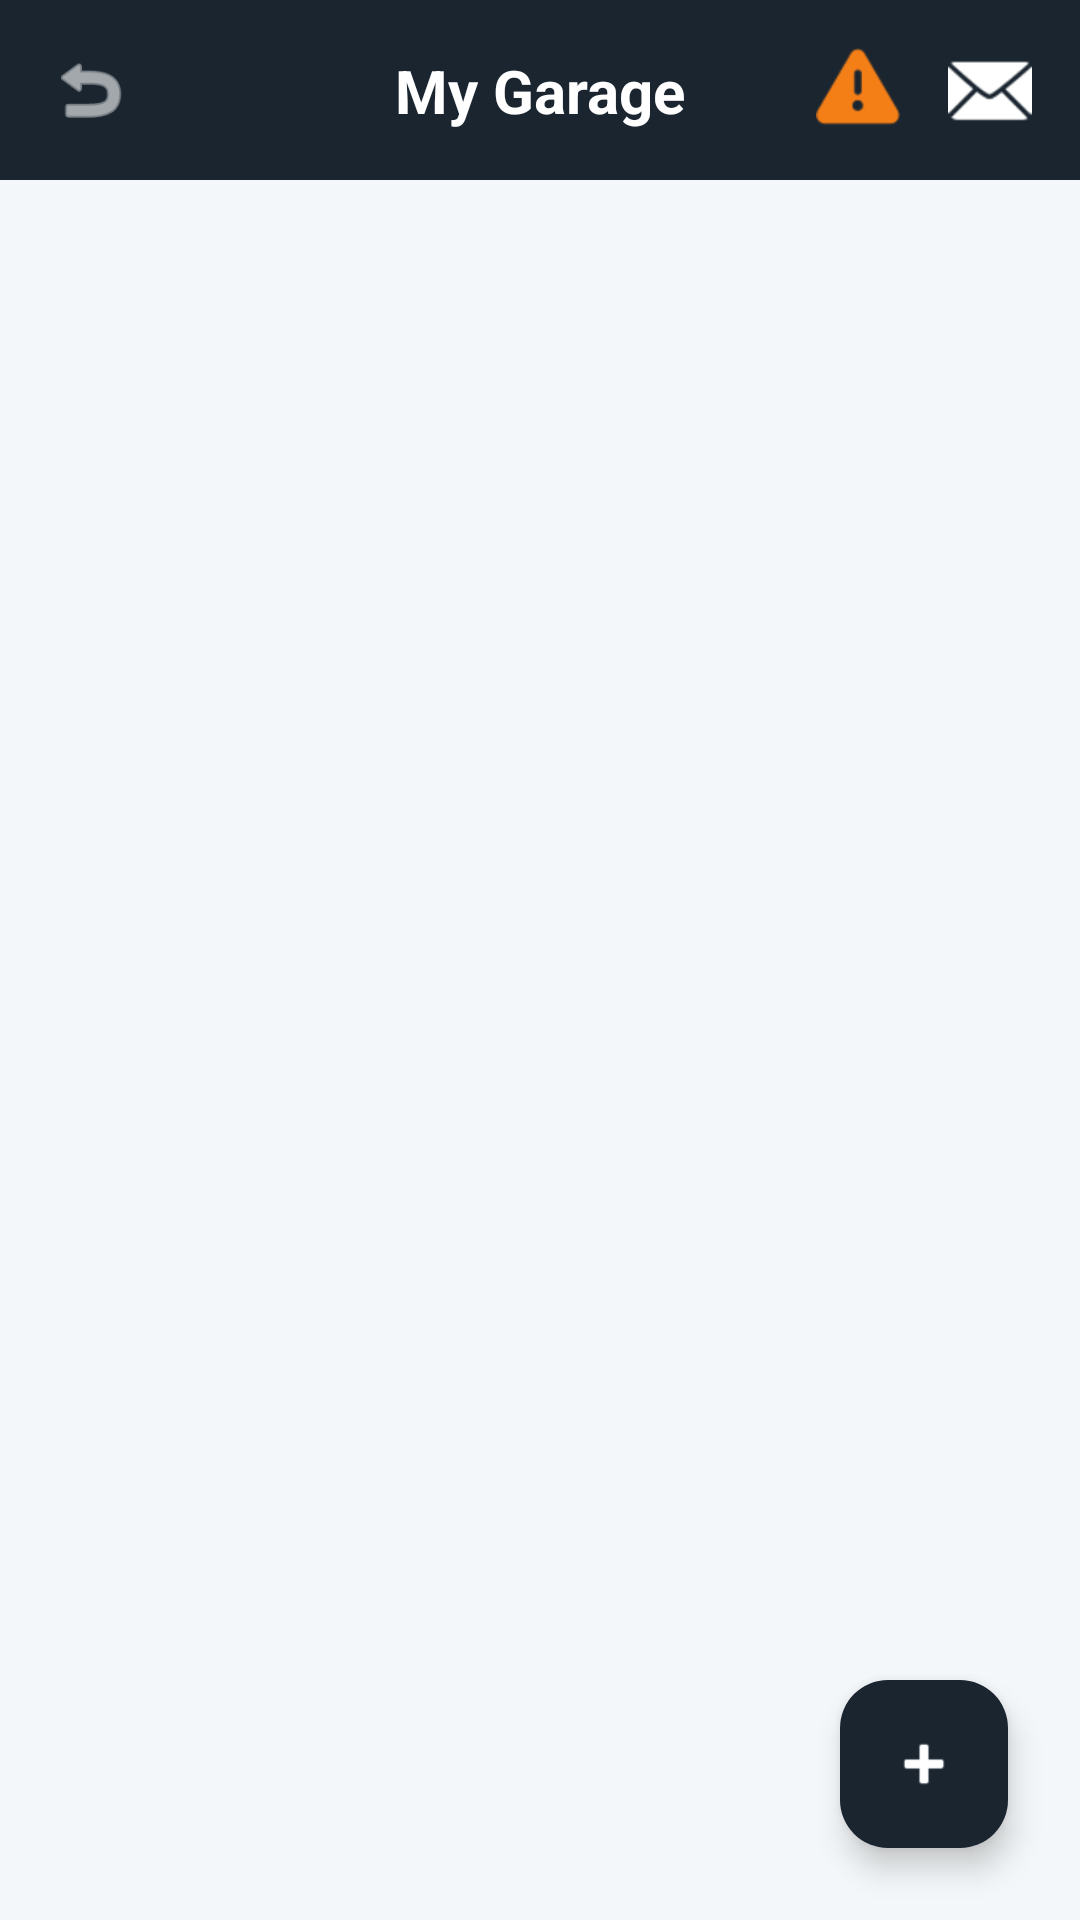

Icon click points for this 1080 × 1920 phone screenshot, format point (x, y):
Add Vehicle: point (924, 1764)
alert: point (858, 86)
email: point (990, 91)
revert: point (91, 90)
